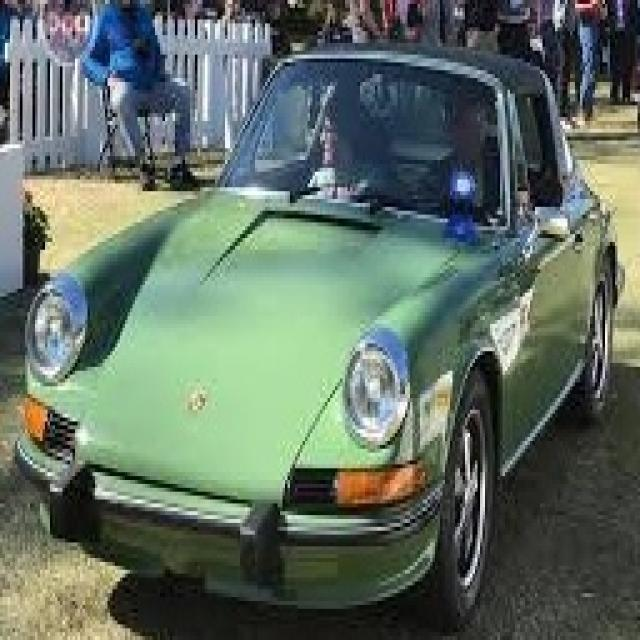green: (10, 40, 635, 640)
